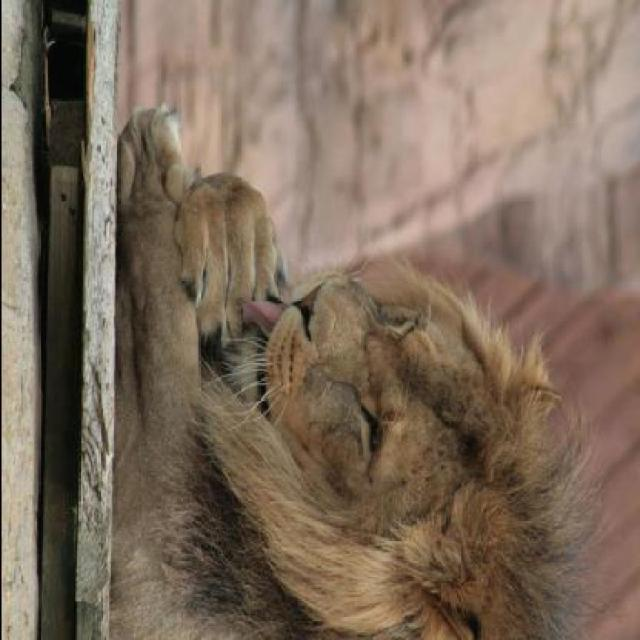Lion: (79, 89, 618, 631)
